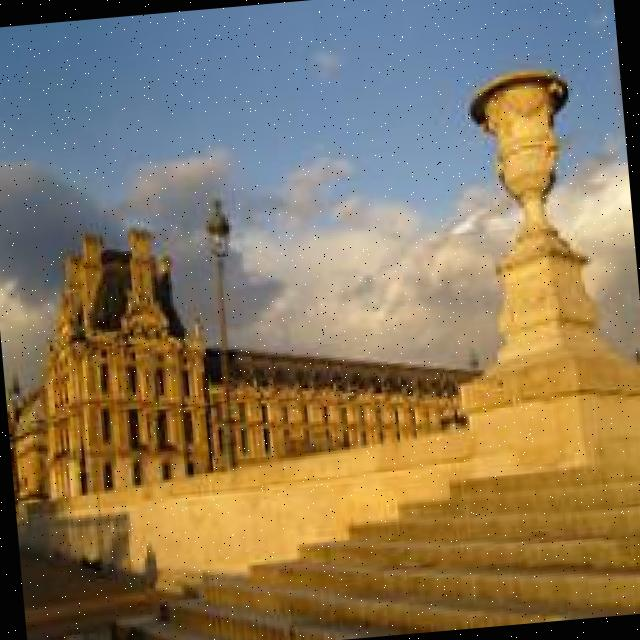stairs: (9, 392, 640, 640)
